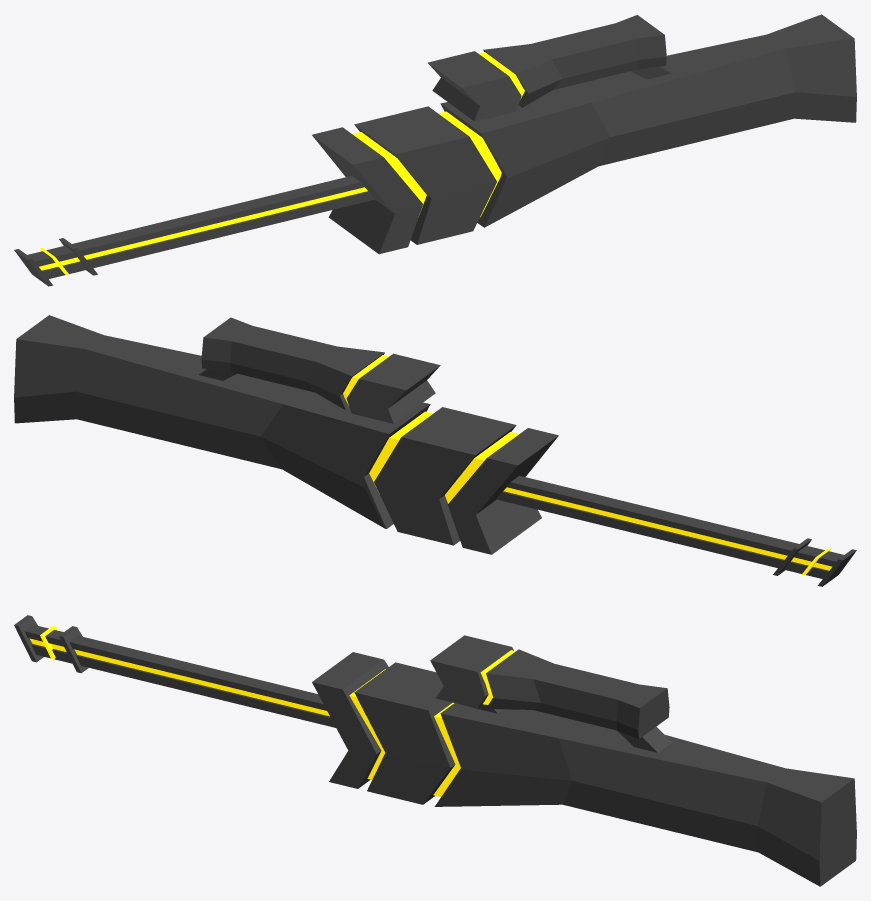
Rendered from Rifle.fbx.
3 renders of one model, top to bottom at view 1: azimuth 30°, elevation 25°; view 2: azimuth 150°, elevation 25°; view 3: azimuth 330°, elevation 25°, orthographic.
Visible parts, largest first — view 1: Sphere, Sphere.002, Sphere.001, Cube, Cube.004; view 2: Sphere, Sphere.002, Sphere.001, Cube.004, Cube; view 3: Sphere, Sphere.002, Sphere.001, Cube.004, Cube, Cube.002.
Boxes of the visible parts, x1=… form: Sphere: x1=312, y1=14, x2=856, y2=254; Sphere.002: x1=428, y1=15, x2=666, y2=121; Sphere.001: x1=27, y1=175, x2=375, y2=279; Cube: x1=352, y1=111, x2=501, y2=217; Cube.004: x1=39, y1=187, x2=367, y2=270; Sphere: x1=14, y1=315, x2=558, y2=554; Sphere.002: x1=201, y1=317, x2=440, y2=423; Sphere.001: x1=496, y1=475, x2=843, y2=578; Cube.004: x1=503, y1=487, x2=832, y2=570; Cube: x1=369, y1=411, x2=518, y2=503; Sphere: x1=312, y1=652, x2=856, y2=886; Sphere.002: x1=430, y1=635, x2=669, y2=738; Sphere.001: x1=24, y1=624, x2=335, y2=727; Cube.004: x1=30, y1=638, x2=329, y2=716; Cube: x1=349, y1=669, x2=460, y2=796; Cube.002: x1=618, y1=726, x2=672, y2=752.
Bounding box in the file's own units: 1875 × 301 × 200.
